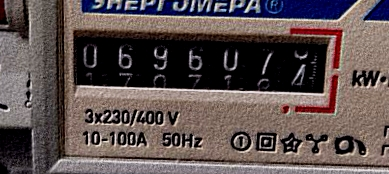0: (79, 41, 101, 71), (221, 45, 241, 74)
4: (288, 62, 308, 91)
6: (185, 43, 206, 75), (115, 42, 135, 72)
7: (256, 45, 275, 76)
9: (150, 43, 171, 73)
screen: (60, 14, 346, 116)
